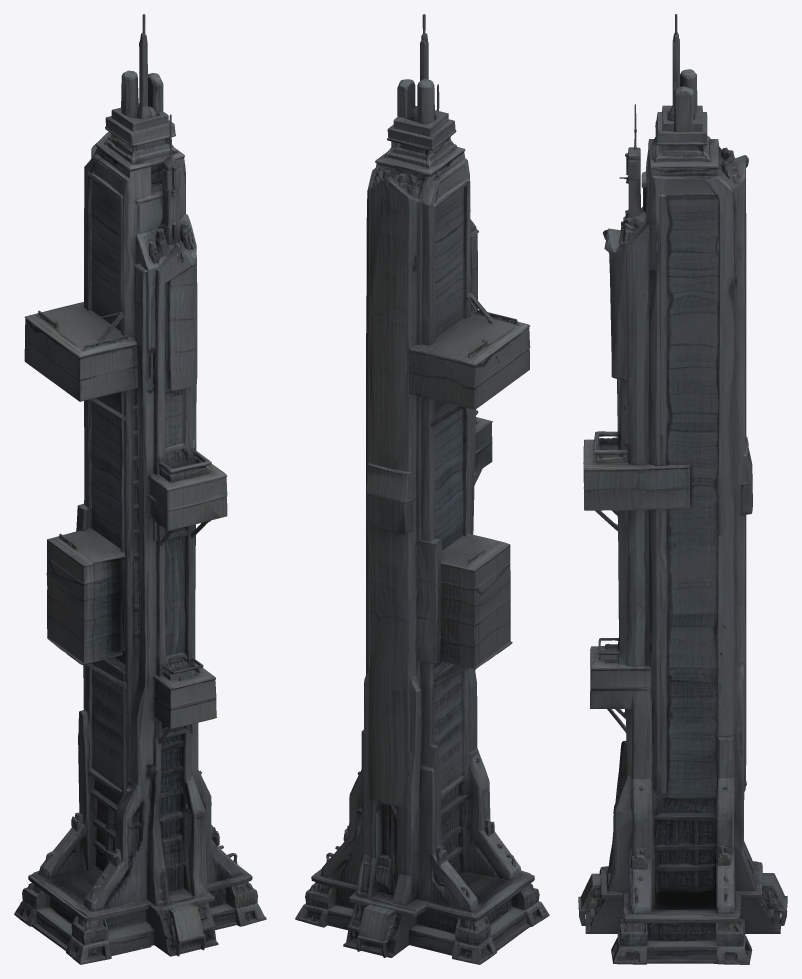
3 renders of one model, left to right at view 1: azimuth 30°, elevation 25°; view 2: azimuth 150°, elevation 25°; view 3: azimuth 270°, elevation 25°, orthographic.
Visible parts, largest first — view 1: model; view 2: model; view 3: model.
Boxes of the visible parts, x1,y1,x2,y2 form: model: [14, 14, 266, 964]; model: [295, 14, 549, 964]; model: [578, 14, 787, 964].
Bounding box in the file's own units: 0.4117 × 1.9 × 0.3973.
Materials: 1 (1 with a texture image).
